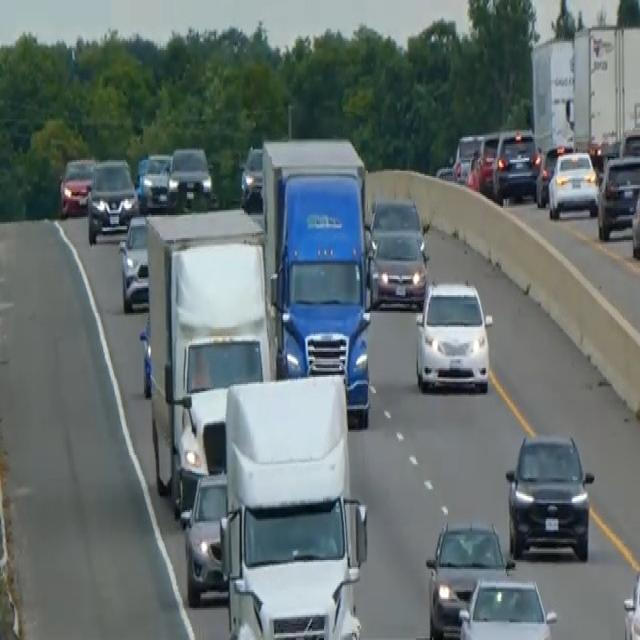car: (504, 430, 594, 562), (424, 519, 513, 638), (414, 277, 493, 395), (181, 469, 229, 606), (457, 574, 557, 638), (369, 226, 428, 309), (86, 156, 138, 244), (596, 151, 639, 240), (492, 126, 540, 203), (547, 148, 599, 218), (117, 212, 150, 311), (166, 144, 213, 208), (535, 140, 574, 207), (369, 194, 422, 240), (58, 155, 96, 217), (138, 151, 172, 210), (239, 144, 264, 210), (451, 132, 482, 183), (622, 562, 639, 638), (630, 176, 639, 261)
lorry: (218, 370, 368, 638), (260, 135, 374, 425)
